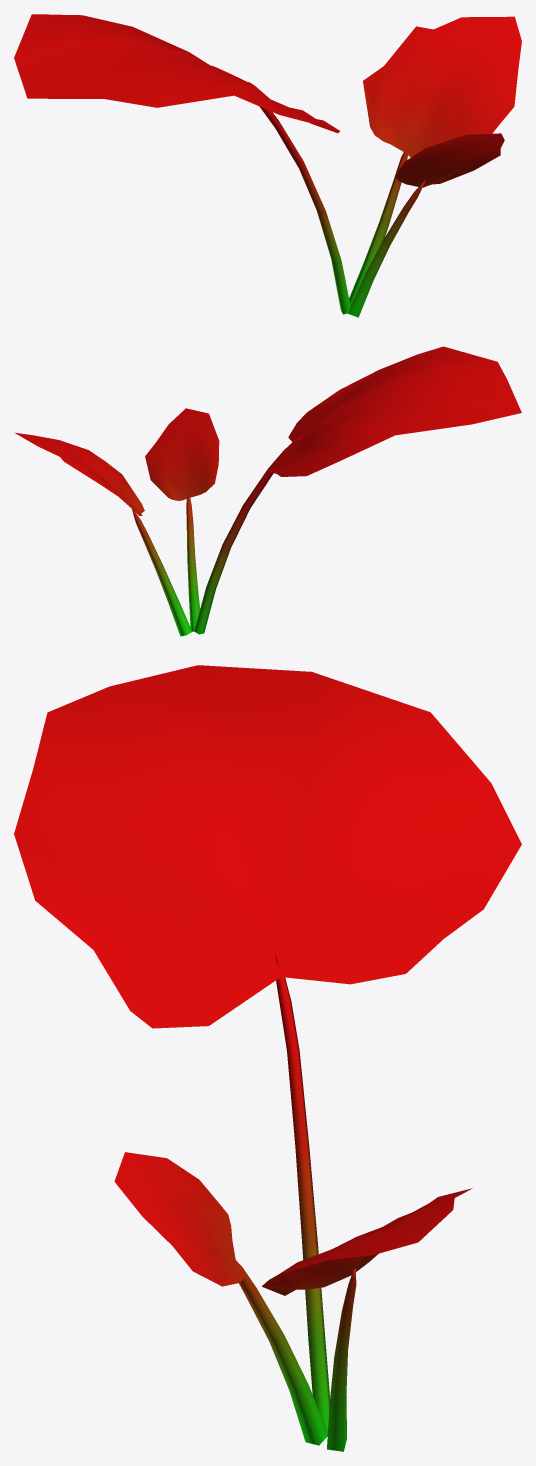
The model's file is Coltsfoot_LOD1_Var1_xbtkdfvqx.fbx.
3 views of the same model, one above another, from view 1: azimuth 30°, elevation 25°; view 2: azimuth 150°, elevation 25°; view 3: azimuth 270°, elevation 25° (orthographic). The views are drawn at different scales.
Parts seen in each view (by area): view 1: _lboi_Var1_LOD1; view 2: _lboi_Var1_LOD1; view 3: _lboi_Var1_LOD1.
Boxes of the visible parts, x1,y1,x2,y2 form: _lboi_Var1_LOD1: (14, 14, 521, 317); _lboi_Var1_LOD1: (14, 346, 521, 636); _lboi_Var1_LOD1: (14, 665, 521, 1451).
Size of the model in its own units: 14.69 by 8.7 by 7.62.
